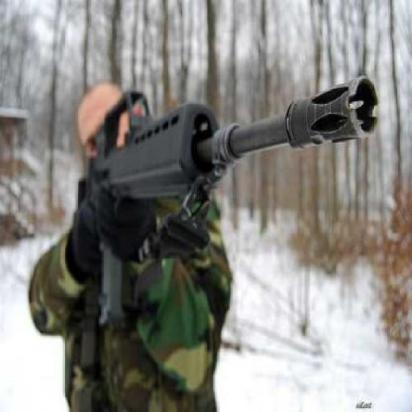Gun: (71, 34, 382, 332)
